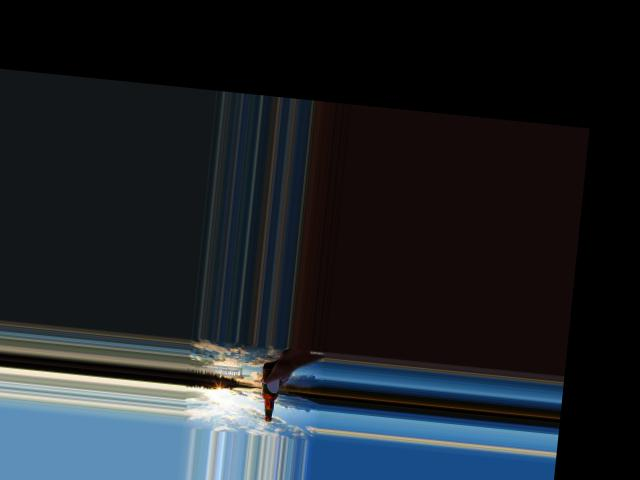beer: (256, 364, 281, 422)
